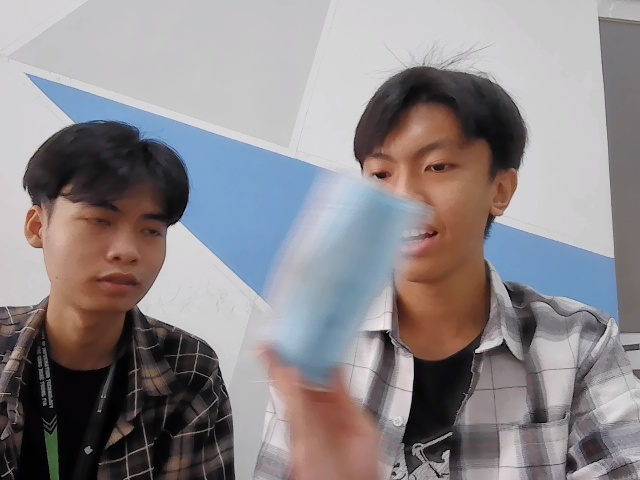human: (362, 68, 527, 282), (23, 120, 190, 323)
mask: (266, 169, 408, 390)
